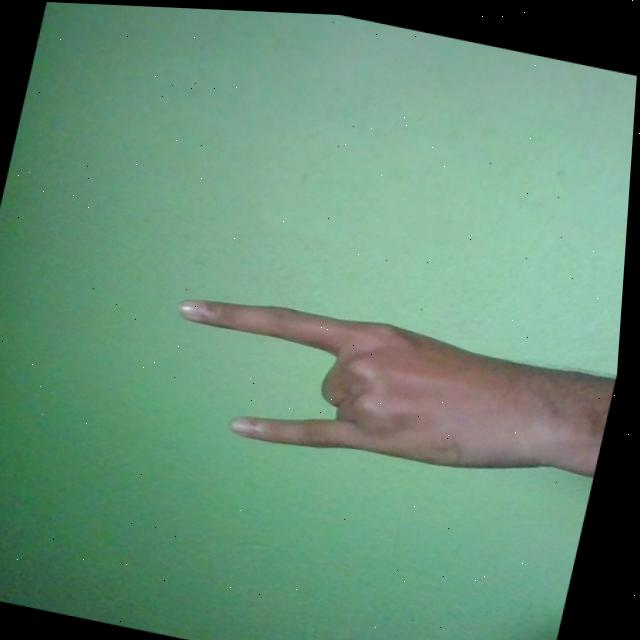Rock On: (154, 277, 615, 498)
